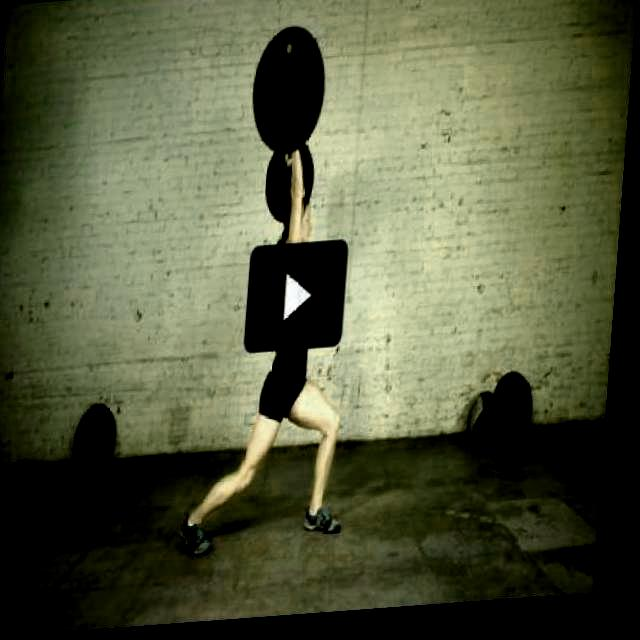barbell: (246, 27, 337, 163)
